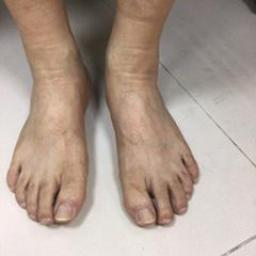Dorsal View -Both Feet-: (6, 28, 209, 241)
